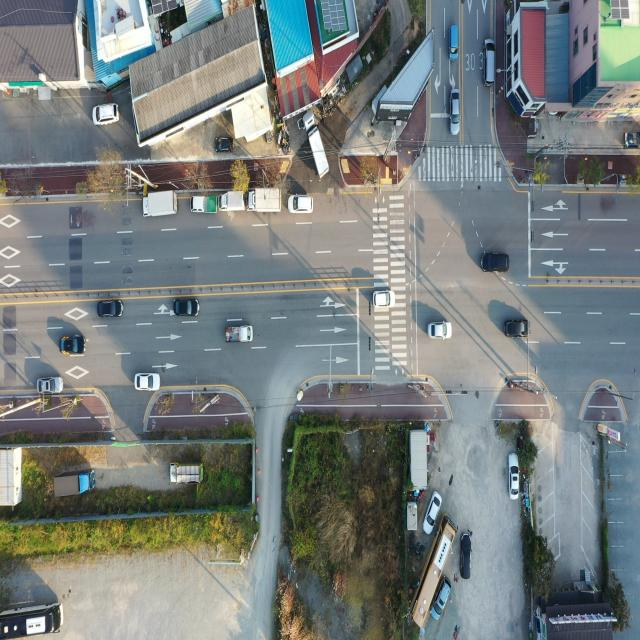car: (430, 574, 452, 619), (422, 488, 442, 536), (481, 37, 496, 89), (93, 102, 121, 126), (482, 251, 510, 273), (460, 530, 472, 578), (451, 86, 462, 136), (61, 336, 87, 357), (509, 455, 520, 501), (290, 194, 314, 215), (429, 320, 454, 340), (38, 376, 65, 394), (173, 300, 198, 319), (135, 373, 160, 392), (506, 318, 529, 338), (98, 301, 122, 320), (373, 289, 395, 309), (213, 137, 237, 154), (449, 23, 459, 61)
large_bus: (412, 515, 458, 629), (0, 598, 63, 640)
medium_truck: (302, 113, 329, 181), (52, 469, 97, 502), (143, 190, 179, 218), (250, 187, 282, 214)
small_truck: (169, 459, 204, 486), (218, 188, 246, 214), (192, 190, 218, 214), (226, 326, 254, 346)
